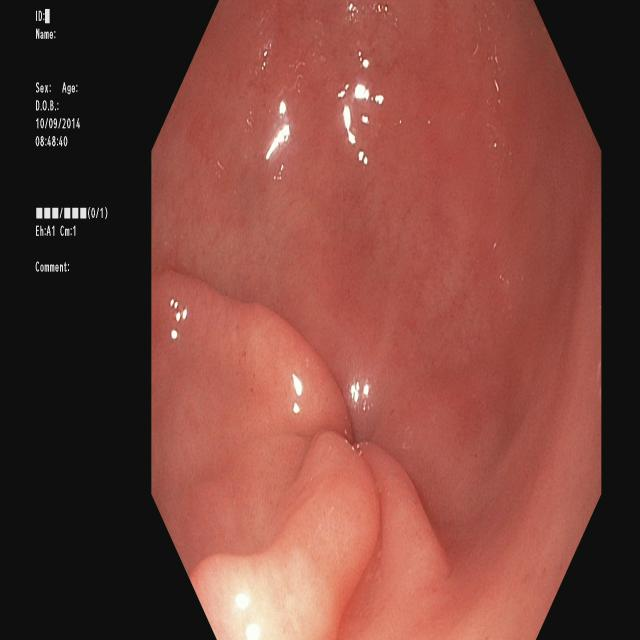normal-pylorus: (152, 251, 453, 640)
